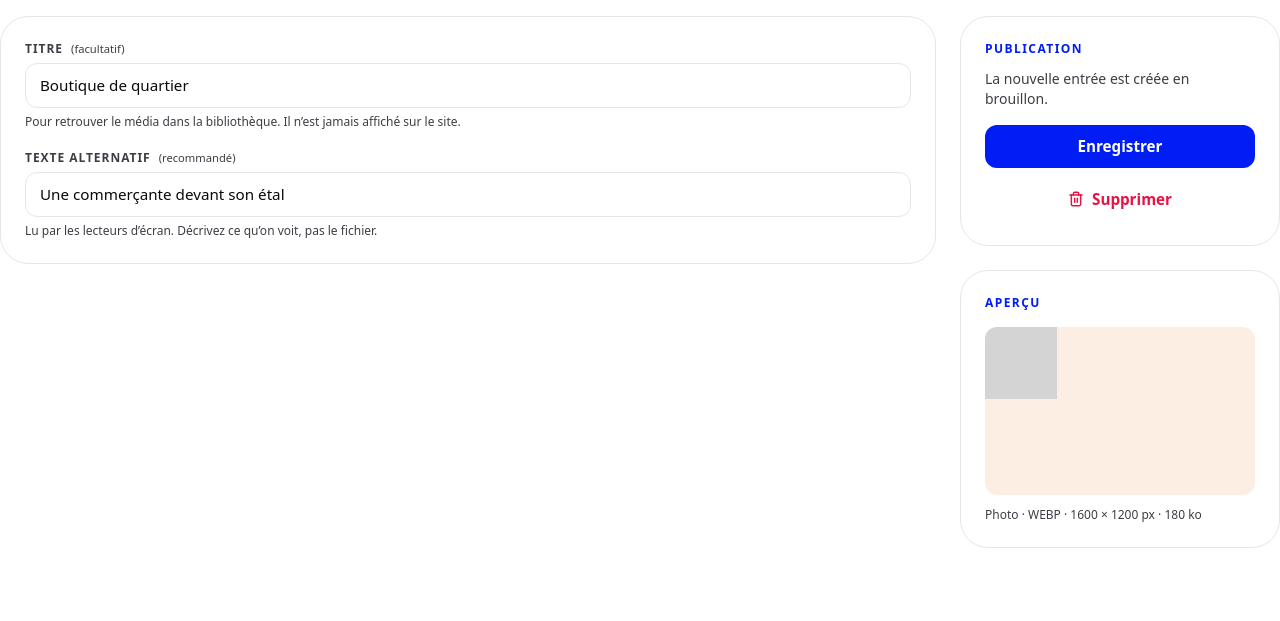
it: MediaForm › part de ce que porte déjà le média et renvoie le texte corrigé
The width and height of the screenshot is (1280, 621).
Expected: the field labelled "Titre (facultatif)" holds "Boutique de quartier", x1=25 y1=63 x2=911 y2=108
Replace the text in the field labelled "Texte alternatif (recommandé)" with "Une commerçante devant son étal de légumes" at x=468, y=194, box x1=25 y1=172 x2=911 y2=217
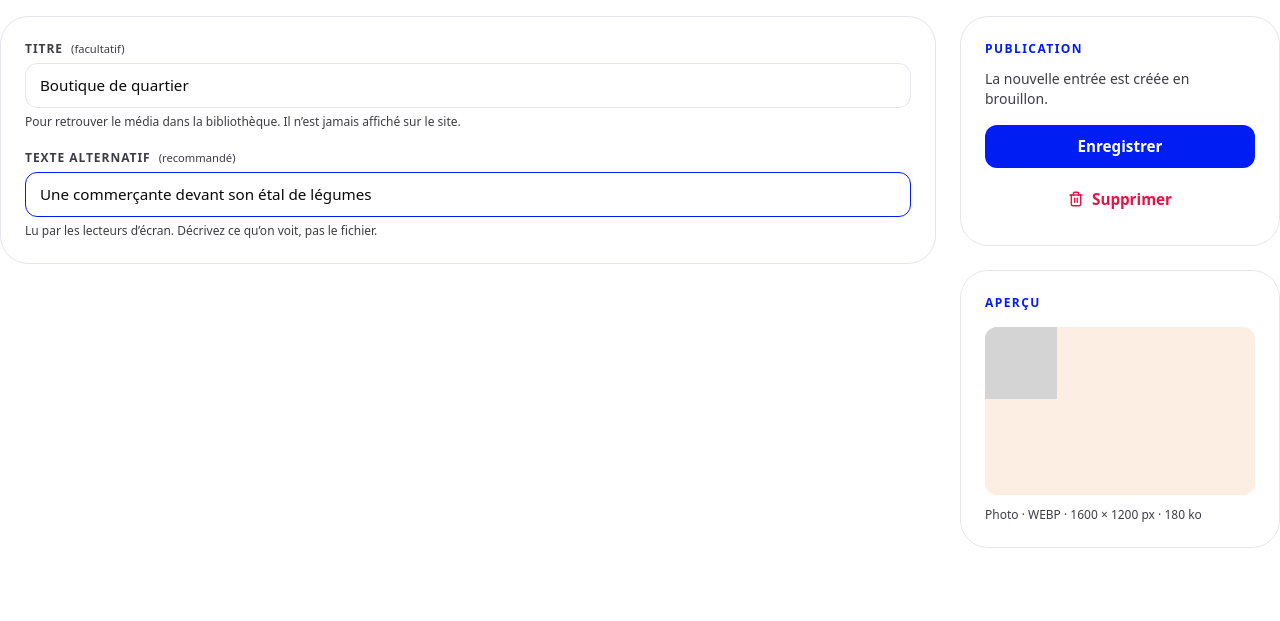
Click the button "Enregistrer" at x=1120, y=146, box x1=985 y1=125 x2=1255 y2=168
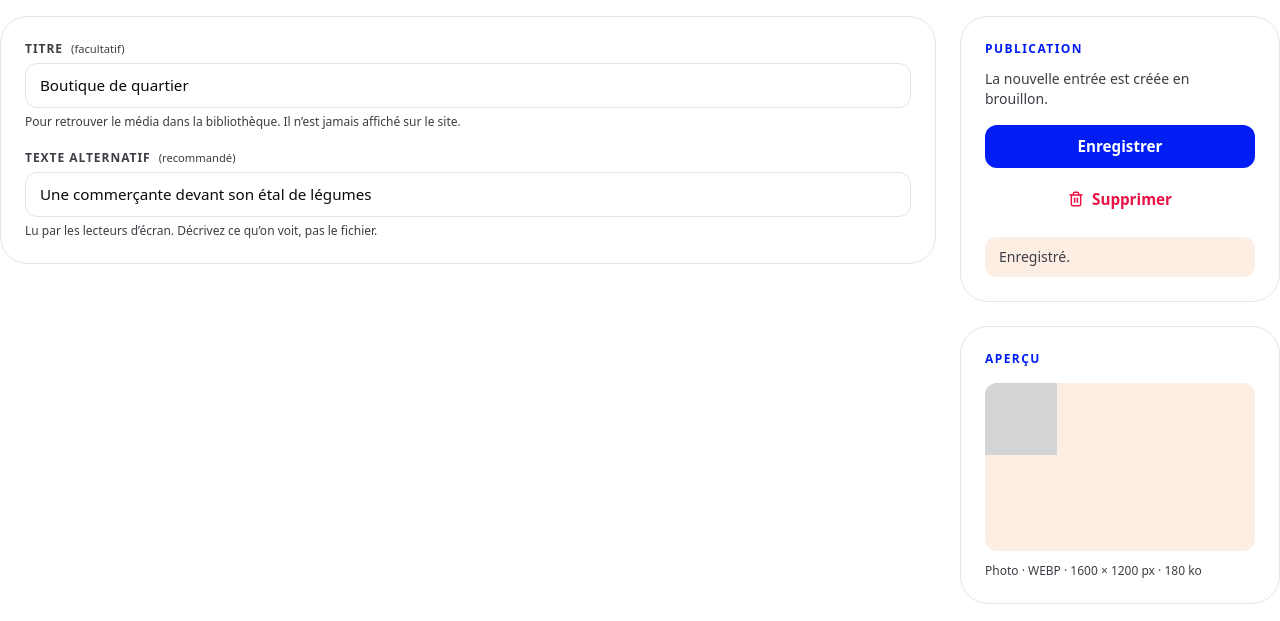
Expected: the message reads "Enregistré.", x1=999 y1=247 x2=1070 y2=266
